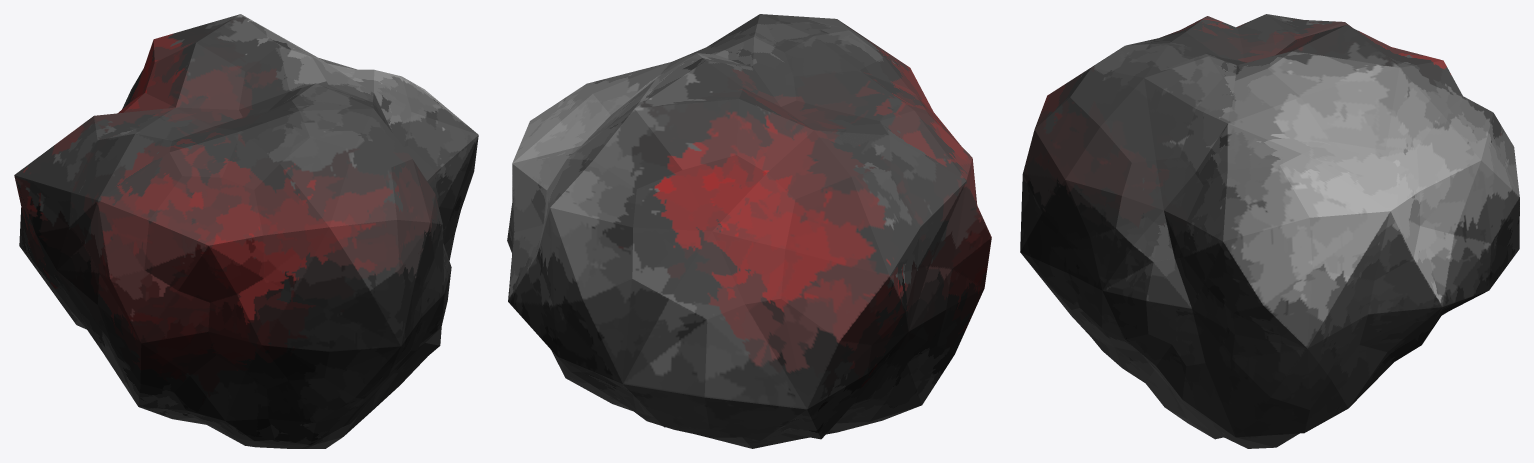
The model's file is BloodRock1.glb.
3 renders of one model, left to right at view 1: azimuth 30°, elevation 25°; view 2: azimuth 150°, elevation 25°; view 3: azimuth 270°, elevation 25°, orthographic. The views are drawn at different scales.
Parts seen in each view (by area): view 1: BloodRock1; view 2: BloodRock1; view 3: BloodRock1.
Boxes of the visible parts, <box> form: BloodRock1: <box>14,14,478,448</box>; BloodRock1: <box>507,14,991,448</box>; BloodRock1: <box>1020,14,1519,448</box>.
Bounding box in the file's own units: 3.98 × 3.53 × 4.22.
1 material, 1 textured.
